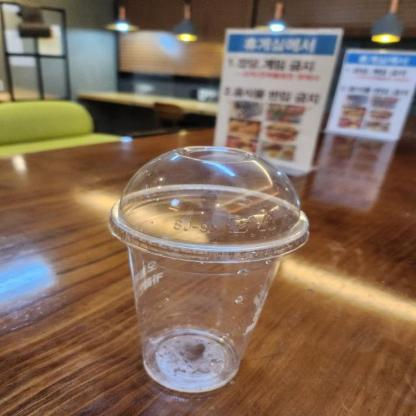Plastic Cup: (106, 135, 310, 392)
